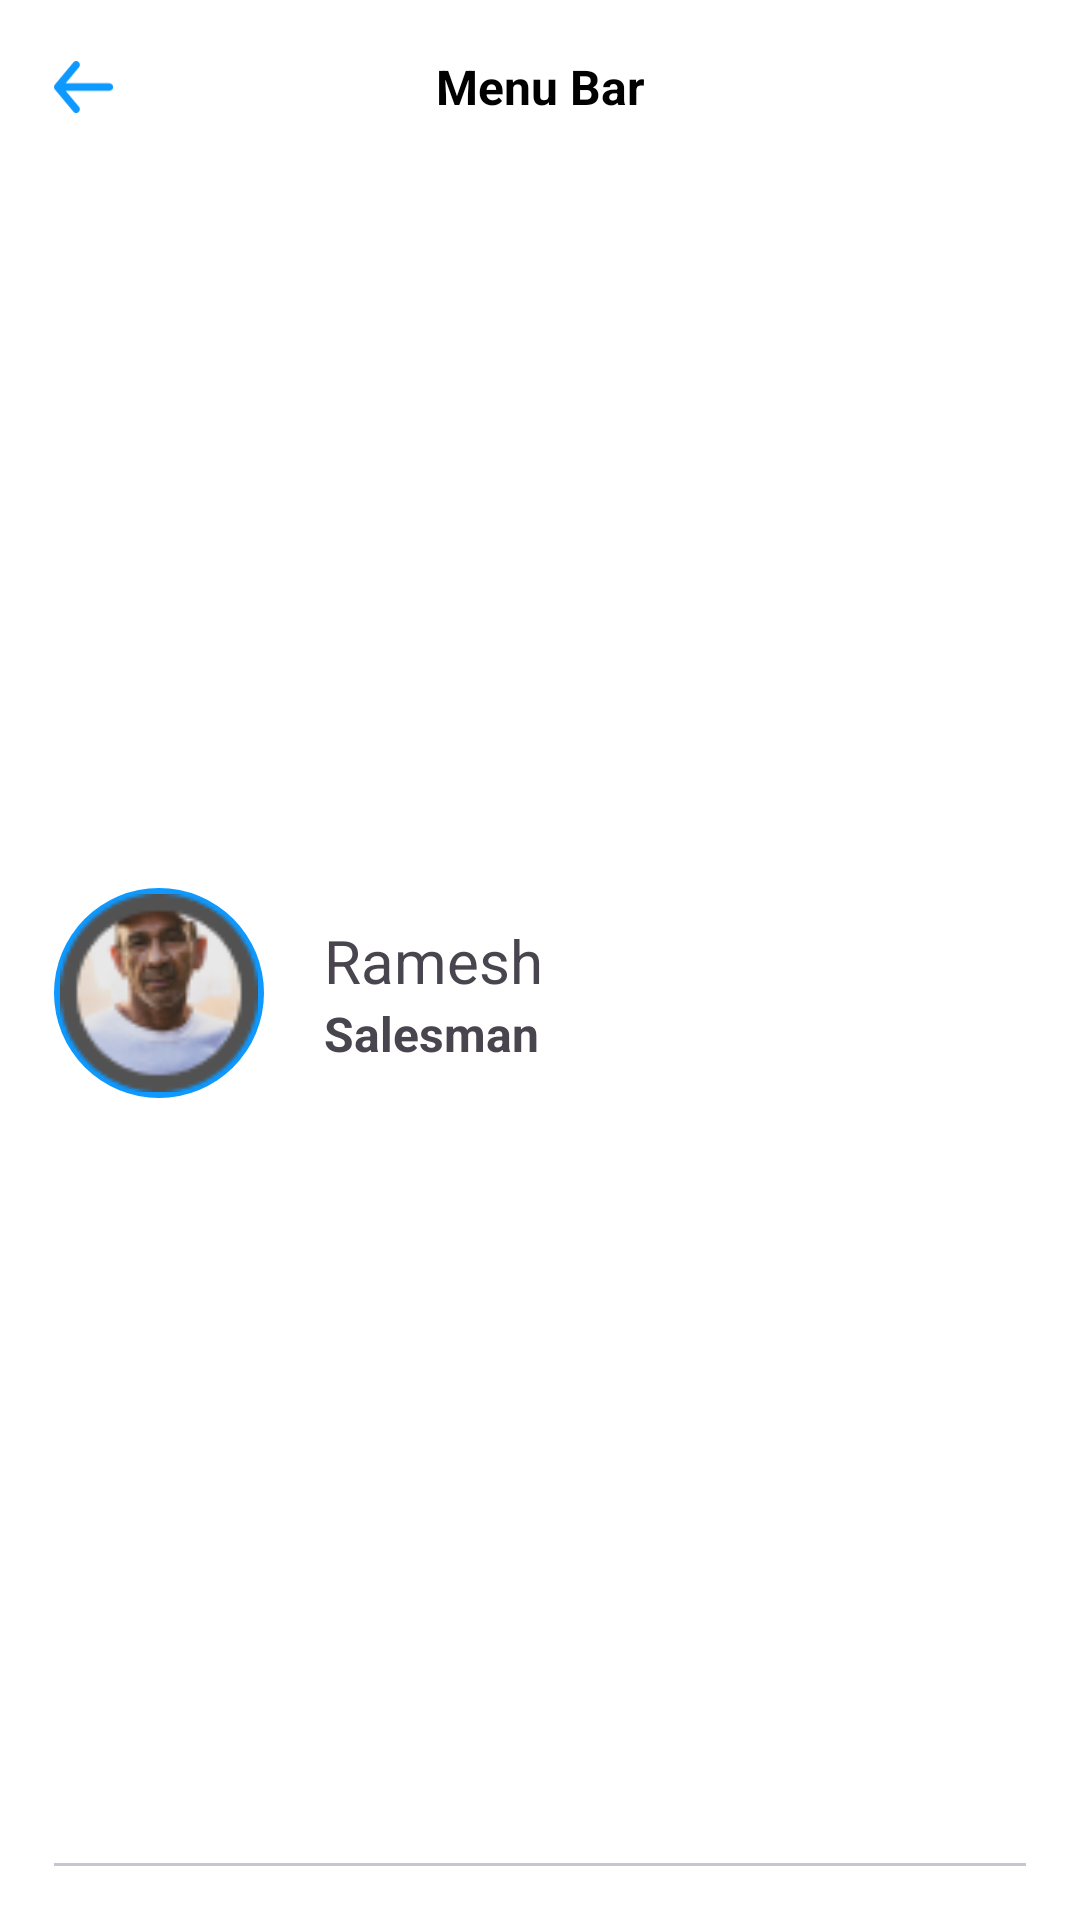

Screen size 1080w x 1920h. Icon name, then its center in pixels as point (x, y):
left arrow: point (83, 87)
profile: point (159, 993)
